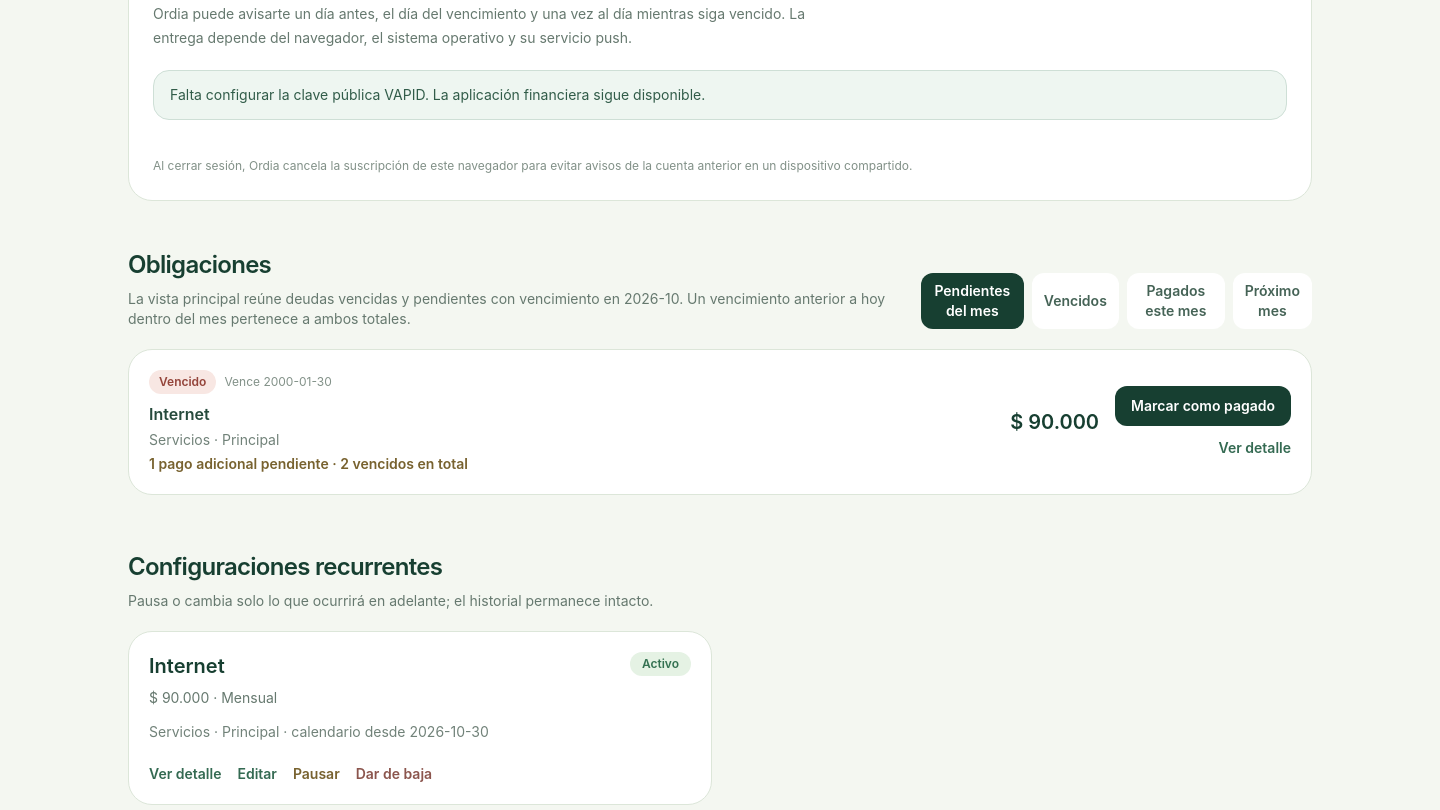
Test: gastos fijos › presenta el siguiente período después de pagar el primero
The width and height of the screenshot is (1440, 810).
(page scrolled)
Click the button "Marcar como pagado": (1203,406) [1115,386,1291,426]
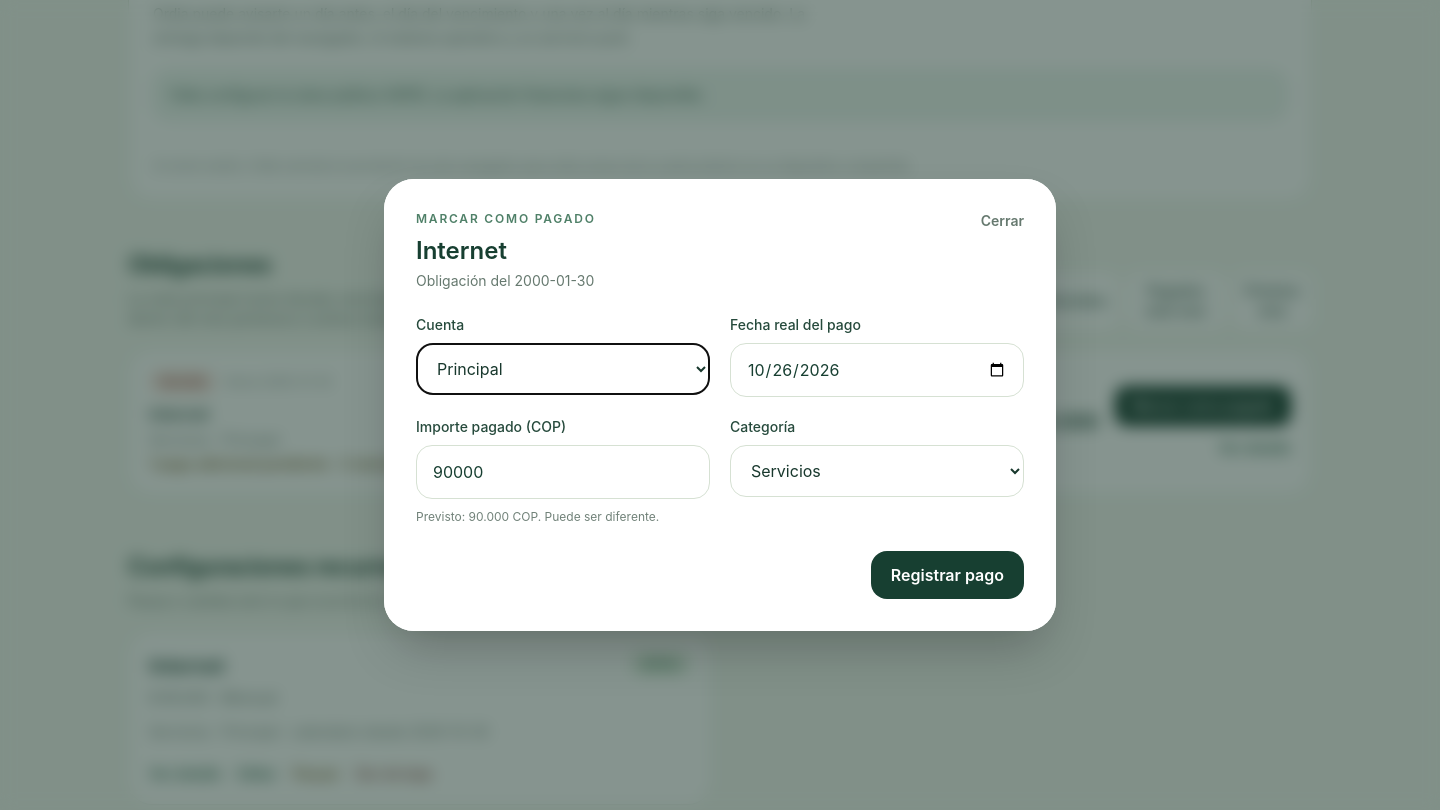
Click the button "Registrar pago": (947,575) [871,551,1024,599]
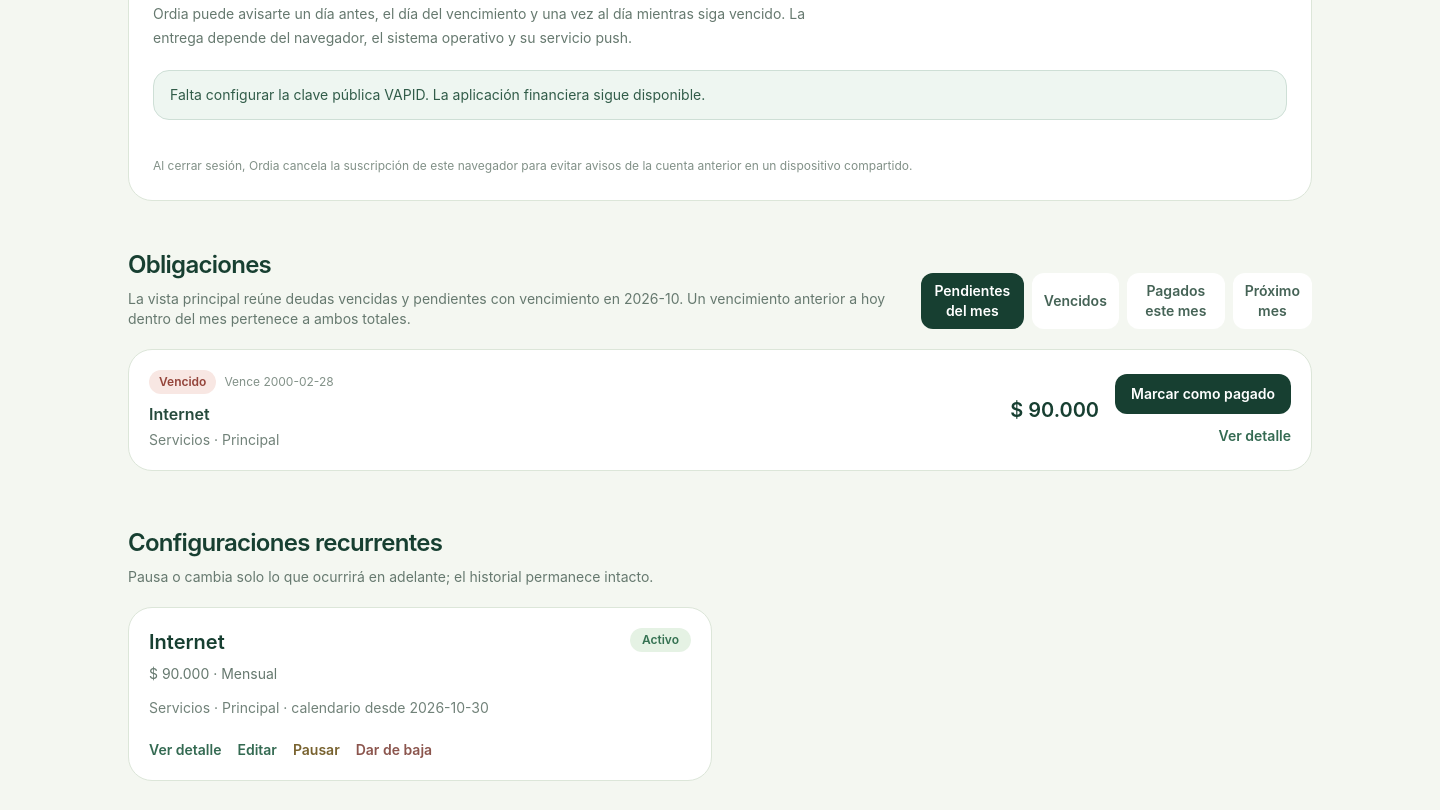
Expected: the text "Vence 2000-02-28" is shown, [224,374,334,390]
Expected: the text "Vence 2000-01-30" is gone
